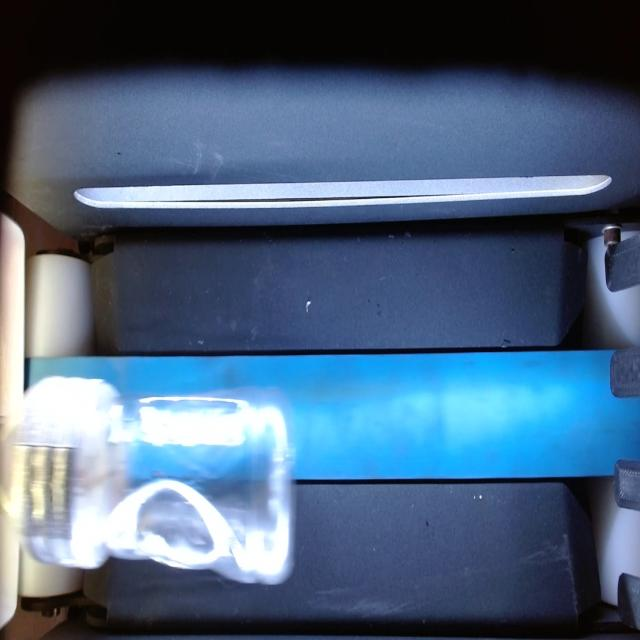bottom: (240, 374, 304, 600)
